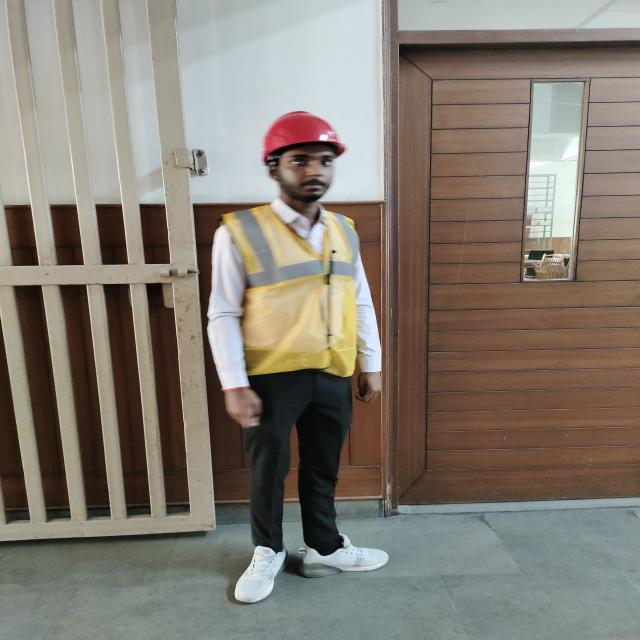safe: (206, 112, 363, 601)
